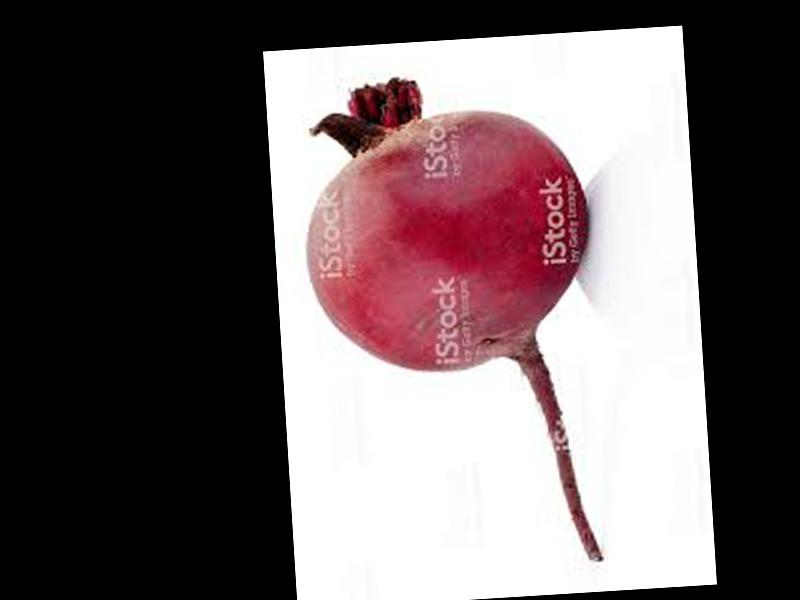Beet: (298, 68, 608, 575)
